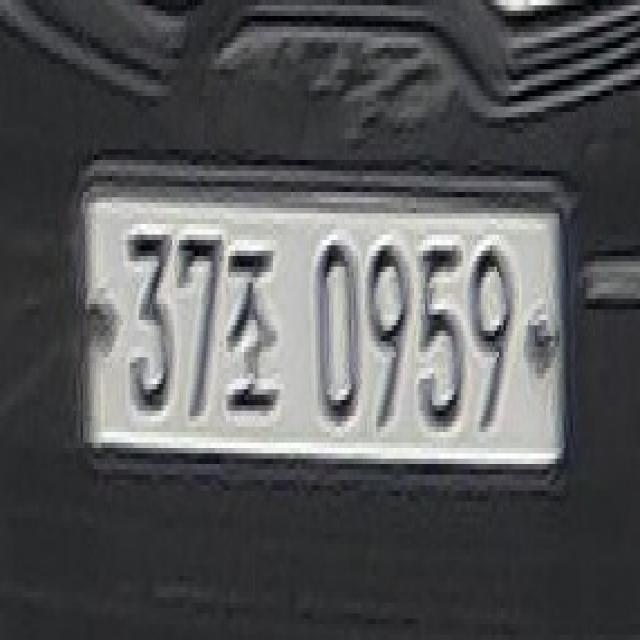0: (309, 234, 360, 426)
3: (125, 224, 177, 421)
5: (416, 235, 468, 432)
7: (176, 229, 222, 411)
9: (470, 235, 512, 432), (365, 240, 407, 432)
jo: (223, 245, 280, 416)
license_plate: (78, 165, 571, 486)
